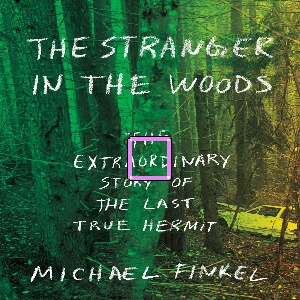square: (125, 135, 175, 182)
